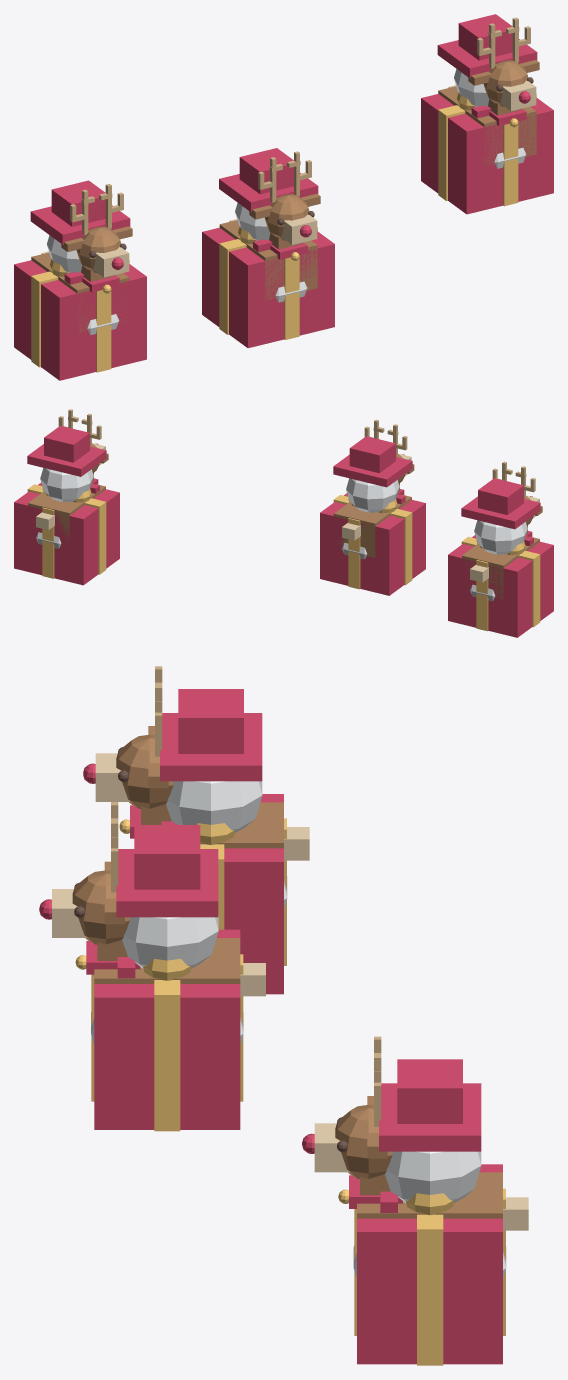
The model's file is village-decorations.glb.
The picture shows the model from 3 angles, top to bottom: view 1: azimuth 30°, elevation 25°; view 2: azimuth 150°, elevation 25°; view 3: azimuth 270°, elevation 25°; orthographic projection. The views are drawn at different scales.
Visible parts, largest first — view 1: gift_0_0, gift_2_0, gift_1_0, reindeer_1_0, reindeer_2_0, snowman_1_3, snowman_2_3, snowman_0_3, snowman_2_2, snowman_0_2, snowman_1_2, gift_0_1 (+15 smaller); view 2: gift_0_0, gift_2_0, gift_1_0, snowman_1_3, snowman_0_3, snowman_2_3, snowman_0_1, snowman_2_1, snowman_1_1, snowman_0_2, snowman_1_2, snowman_2_2 (+9 smaller); view 3: gift_1_0, gift_2_0, gift_0_0, snowman_1_2, snowman_2_2, snowman_0_2, snowman_1_3, snowman_0_3, snowman_2_3, snowman_2_1, gift_1_2, gift_2_2 (+15 smaller).
Boxes of the visible parts, box(x1,y1,x2,y2) form: gift_0_0: box(14, 260, 146, 380); gift_2_0: box(421, 94, 553, 214); gift_1_0: box(202, 227, 334, 348); reindeer_1_0: box(219, 220, 317, 300); reindeer_2_0: box(438, 86, 536, 165); snowman_1_3: box(239, 148, 293, 194); snowman_2_3: box(458, 14, 512, 60); snowman_0_3: box(51, 180, 105, 226); snowman_2_2: box(437, 39, 537, 78); snowman_0_2: box(30, 205, 130, 244); snowman_1_2: box(219, 173, 318, 212); gift_0_1: box(96, 290, 111, 372); gift_0_0: box(448, 535, 553, 637); gift_2_0: box(14, 482, 119, 585); gift_1_0: box(320, 493, 425, 595); snowman_1_3: box(349, 436, 395, 473); snowman_0_3: box(478, 478, 523, 514); snowman_2_3: box(44, 425, 89, 462); snowman_0_1: box(474, 520, 527, 554); snowman_2_1: box(40, 468, 93, 502); snowman_1_1: box(346, 478, 399, 512); snowman_0_2: box(461, 496, 540, 529); snowman_1_2: box(333, 454, 412, 487); snowman_2_2: box(27, 444, 106, 476); gift_1_0: box(94, 929, 240, 1129); gift_2_0: box(357, 1164, 502, 1364); gift_0_0: box(224, 794, 283, 994); snowman_1_2: box(116, 849, 218, 917); snowman_2_2: box(379, 1083, 481, 1151); snowman_0_2: box(160, 713, 262, 781); snowman_1_3: box(134, 825, 200, 889); snowman_0_3: box(178, 689, 243, 753); snowman_2_3: box(397, 1059, 462, 1123); snowman_2_1: box(385, 1151, 481, 1202); gift_1_2: box(154, 980, 180, 1131); gift_2_2: box(417, 1214, 443, 1365).
Bounding box in the file's own units: 0.714 × 0.214 × 0.3352.
